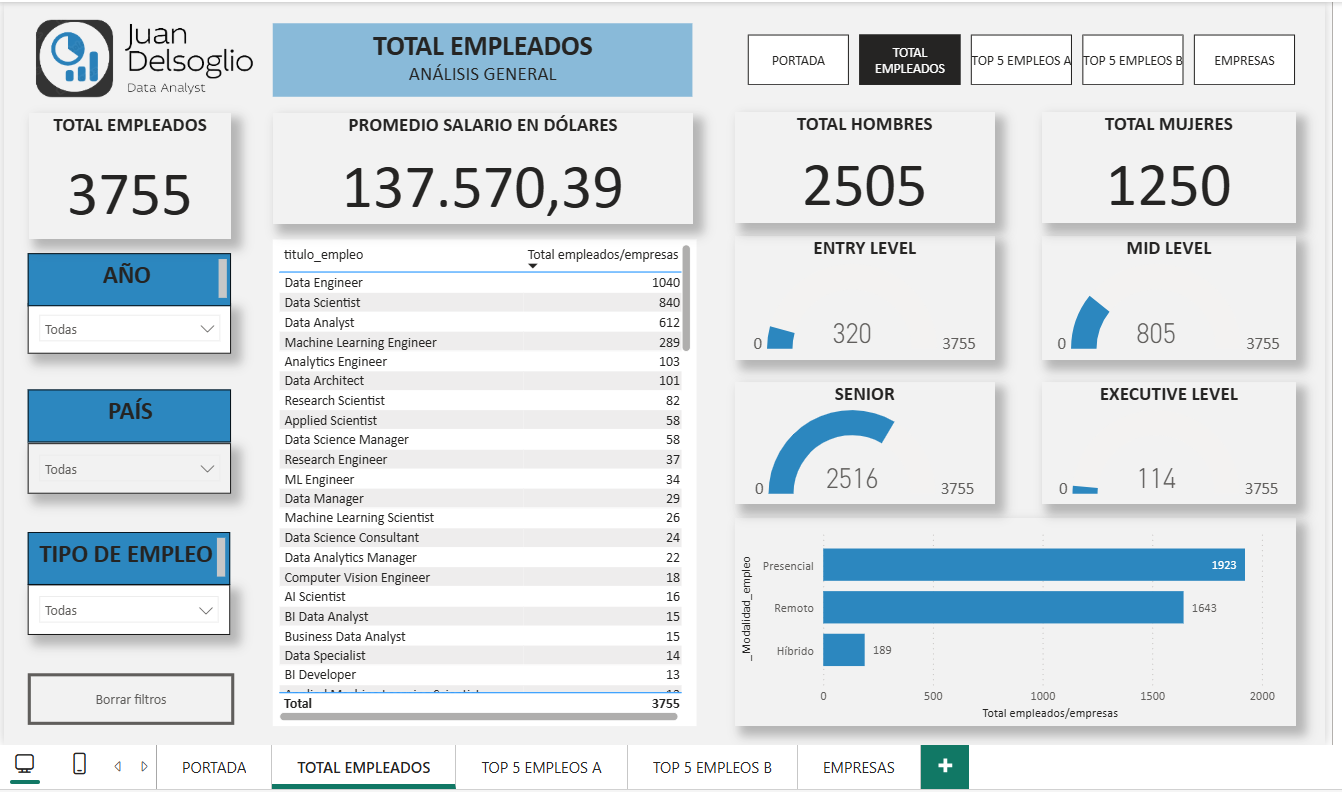

Layout of this report page (visuals, bound fields, positions):
{"tool":"powerbi","page":{"name":"TOTAL EMPLEADOS","canvas":[1280,720],"ordinal":1},"visuals":[{"type":"image","box":[15.7,10,243.7,92.7],"z":0},{"type":"pageNavigator","box":[719.8,31.4,531.7,49.9],"z":1000},{"type":"slicer","title":"Año","fields":{"Values":["EMPLEADOS.Ano_contratacion"]},"box":[22.9,291.4,197.1,49],"z":2000},{"type":"slicer","title":"Tipo de empleo","fields":{"Values":["TIPO EMPLEO.tipo_empleo"]},"box":[22.9,564.3,195.7,48.6],"z":3000},{"type":"slicer","title":"País de residencia","fields":{"Values":["PAIS RESIDENCIA.pais_residencia_empleado"]},"box":[22.9,427.1,197.1,48.6],"z":4000},{"type":"textbox","box":[260,20,448.6,71.4],"z":5000},{"type":"textbox","box":[22.9,242.9,197.1,51],"z":6000},{"type":"textbox","box":[22.9,512.9,195.7,51.4],"z":7000},{"type":"textbox","box":[22.9,375.7,197.1,51.4],"z":8000},{"type":"actionButton","title":"ASDASDASD","box":[22.9,650,200,50],"z":9000},{"type":"card","title":"TOTAL EMPLEADOS","fields":{"Values":["_Medidas.Total empleados/empresas"]},"box":[24.3,107.1,195.7,121.4],"z":10000},{"type":"tableEx","fields":{"Values":["EMPLEADOS.titulo_empleo","_Medidas.Total empleados/empresas"]},"box":[260,230,410,471.4],"z":11000},{"type":"card","title":"PROMEDIO SALARIO EN DÓLARES","fields":{"Values":["_Medidas.Promedio salario en USD"]},"box":[260,107.1,407.1,107.1],"z":12000},{"type":"card","title":"TOTAL HOMBRES","fields":{"Values":["_Medidas.Total Hombres"]},"box":[708.4,106.9,250.9,106.9],"z":13000},{"type":"card","title":"TOTAL MUJERES","fields":{"Values":["_Medidas.Total Mujeres"]},"box":[1004.9,106.9,246.6,106.9],"z":14000},{"type":"gauge","title":"MID LEVEL","fields":{"Y":["_Medidas.TOTAL Mid level"]},"box":[1004.9,226.6,246.6,119.7],"z":15000},{"type":"gauge","title":"ENTRY LEVEL","fields":{"Y":["_Medidas.TOTAL Entry level"]},"box":[708.4,226.6,250.9,119.7],"z":16000},{"type":"gauge","title":"SENIOR","fields":{"Y":["_Medidas.TOTAL Senior"]},"box":[708.4,367.8,250.9,118.3],"z":17000},{"type":"gauge","title":"EXECUTIVE LEVEL","fields":{"Y":["_Medidas.TOTAL Executive level"]},"box":[1004.9,367.8,246.6,118.3],"z":18000},{"type":"clusteredBarChart","fields":{"Category":["EMPLEADOS._Modalidad_empleo"],"Y":["_Medidas.Total empleados/empresas"]},"box":[708.4,500.3,543.1,201],"z":19000}]}

Visuals, with their boxes on the page's 1280x720 design canvas (x1, y1, x2, y2). These are canvas units, not pixel positions in the 1342x792 screenshot, which may show the page scaled, cropped or inside an application window:
image: bbox=[16, 10, 259, 103]
pageNavigator: bbox=[720, 31, 1252, 81]
"Año" slicer: bbox=[23, 291, 220, 340]
"Tipo de empleo" slicer: bbox=[23, 564, 219, 613]
"País de residencia" slicer: bbox=[23, 427, 220, 476]
textbox: bbox=[260, 20, 709, 91]
textbox: bbox=[23, 243, 220, 294]
textbox: bbox=[23, 513, 219, 564]
textbox: bbox=[23, 376, 220, 427]
"ASDASDASD" actionButton: bbox=[23, 650, 223, 700]
"TOTAL EMPLEADOS" card: bbox=[24, 107, 220, 228]
tableEx - EMPLEADOS.titulo_empleo x _Medidas.Total empleados/empresas: bbox=[260, 230, 670, 701]
"PROMEDIO SALARIO EN DÓLARES" card: bbox=[260, 107, 667, 214]
"TOTAL HOMBRES" card: bbox=[708, 107, 959, 214]
"TOTAL MUJERES" card: bbox=[1005, 107, 1252, 214]
"MID LEVEL" gauge: bbox=[1005, 227, 1252, 346]
"ENTRY LEVEL" gauge: bbox=[708, 227, 959, 346]
"SENIOR" gauge: bbox=[708, 368, 959, 486]
"EXECUTIVE LEVEL" gauge: bbox=[1005, 368, 1252, 486]
clusteredBarChart - EMPLEADOS._Modalidad_empleo x _Medidas.Total empleados/empresas: bbox=[708, 500, 1252, 701]
